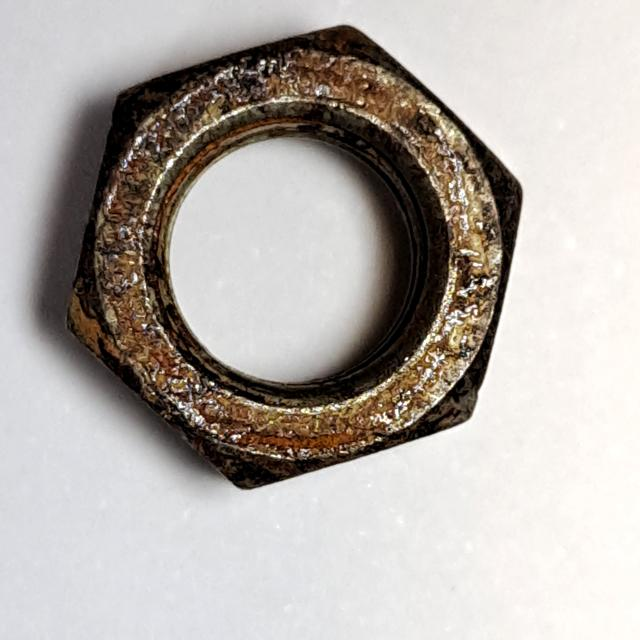Rust: (49, 10, 536, 516)
